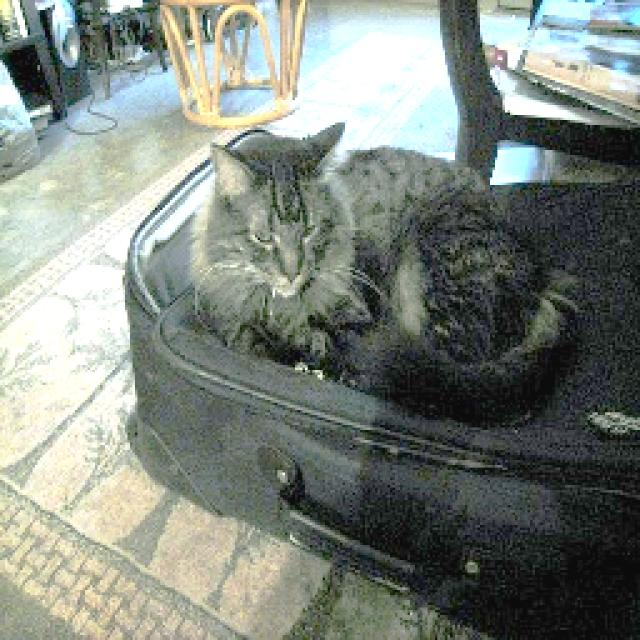cat: (202, 119, 582, 398)
